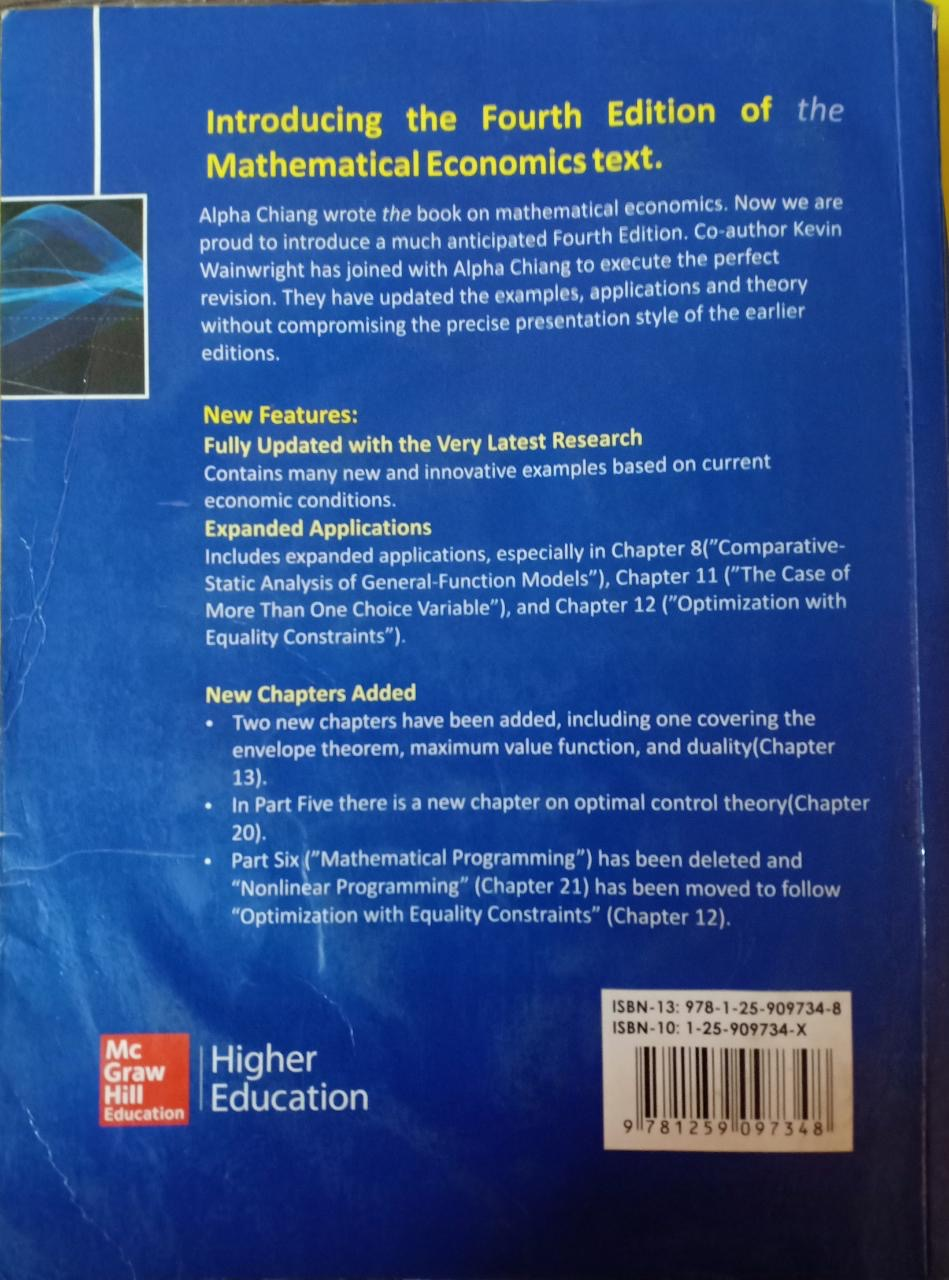barcode: (616, 994, 838, 1150)
